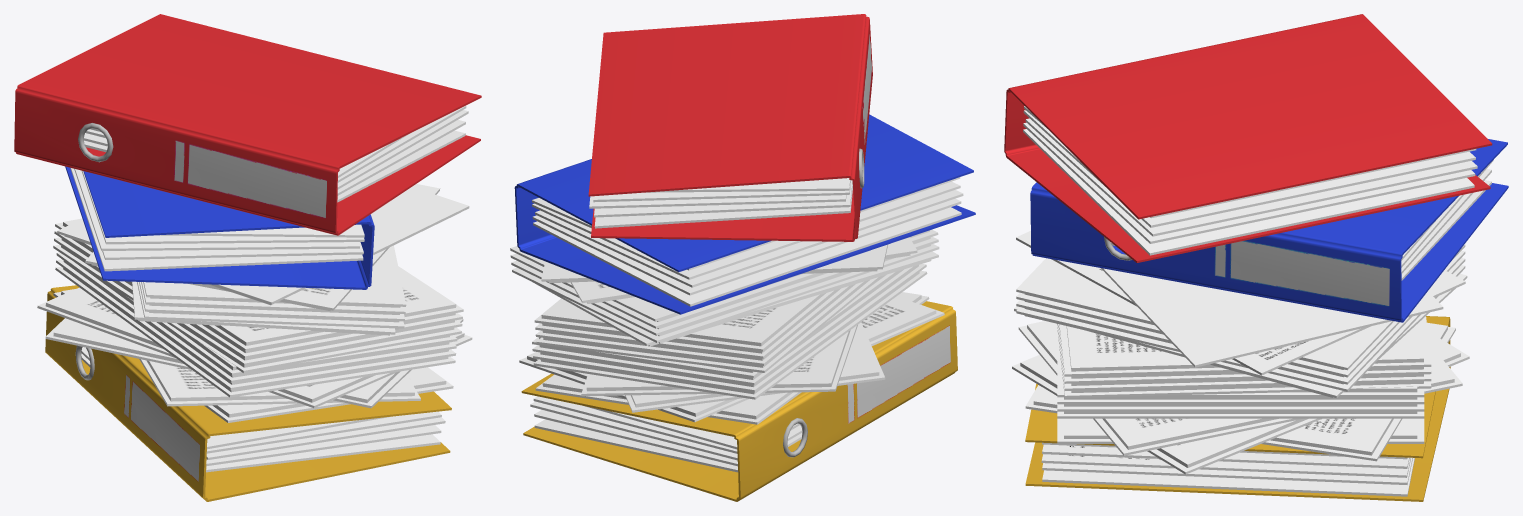
The model's file is Documents.fbx.
3 views of the same model, side by side, from view 1: azimuth 30°, elevation 25°; view 2: azimuth 150°, elevation 25°; view 3: azimuth 270°, elevation 25° (orthographic). The views are drawn at different scales.
Parts seen in each view (by area): view 1: File004, Paper012, File001, File002, Paper040, Paper006, Paper045, FileRing003; view 2: File004, Paper012, File001, File002, Paper040, Paper045, Paper006; view 3: Paper012, File004, File002, Paper045, Paper006, File001, Paper040.
Boxes of the visible parts, x1,y1,x2,y2 form: File004: (14,14,481,235); Paper012: (37,184,472,422); File001: (45,285,451,501); File002: (65,166,374,289); Paper040: (70,168,364,271); Paper006: (81,347,445,472); Paper045: (83,105,468,202); FileRing003: (78,123,113,162); File004: (588,14,872,241); Paper012: (510,229,944,424); File001: (521,301,957,501); File002: (514,114,975,314); Paper040: (532,177,963,306); Paper045: (589,178,852,228); Paper006: (530,396,802,472); Paper012: (1012,231,1469,474); File004: (1004,14,1492,262); File002: (1030,139,1508,322); Paper045: (1023,106,1477,255); Paper006: (1041,442,1414,496); File001: (1025,316,1450,501); Paper040: (1111,160,1493,280).
Bounding box in the file's own units: 19.87 × 15.5 × 20.88.
8 materials, 8 textured.
